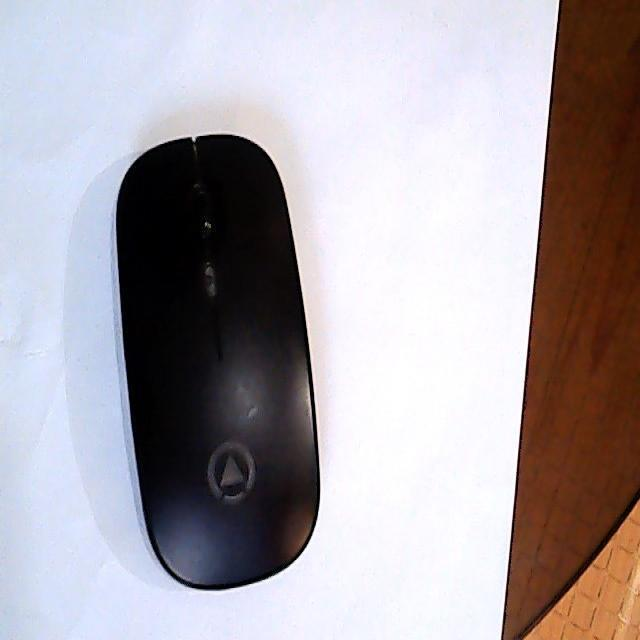Mouse: (114, 130, 322, 592)
